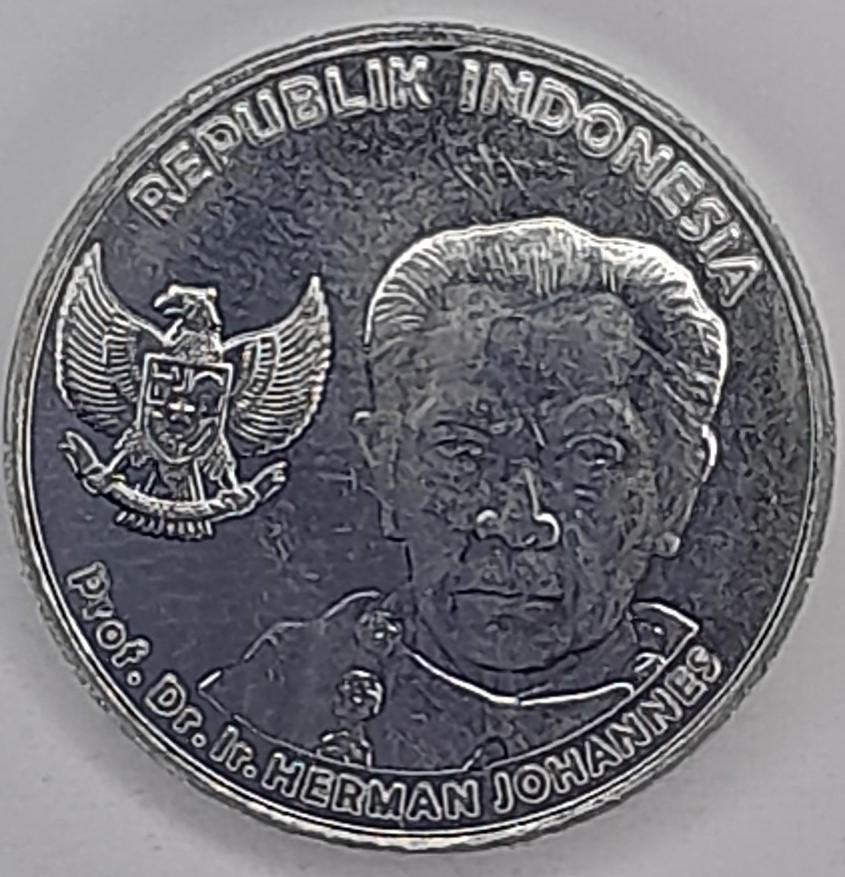coin_100_e2016: (0, 15, 844, 856)
